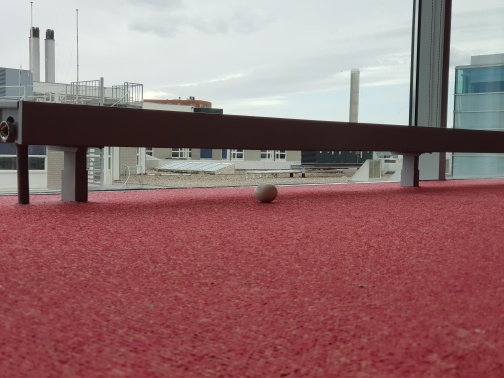egg: (251, 181, 279, 204)
